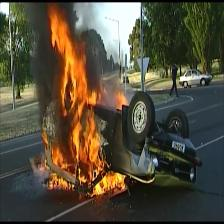fire: (41, 4, 126, 197), (117, 90, 129, 112)
